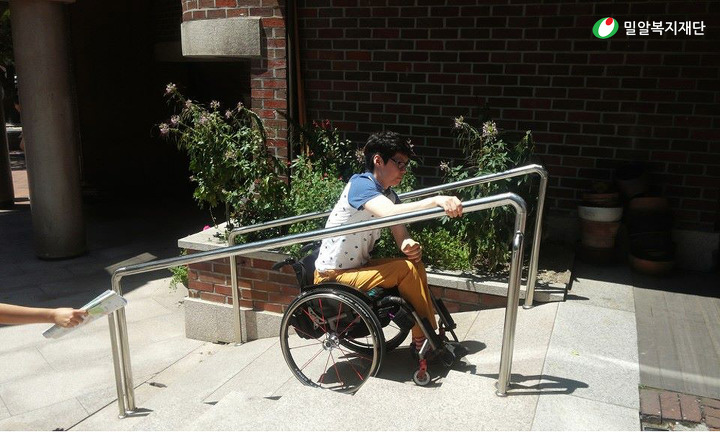wheelchair: (281, 129, 467, 393)
